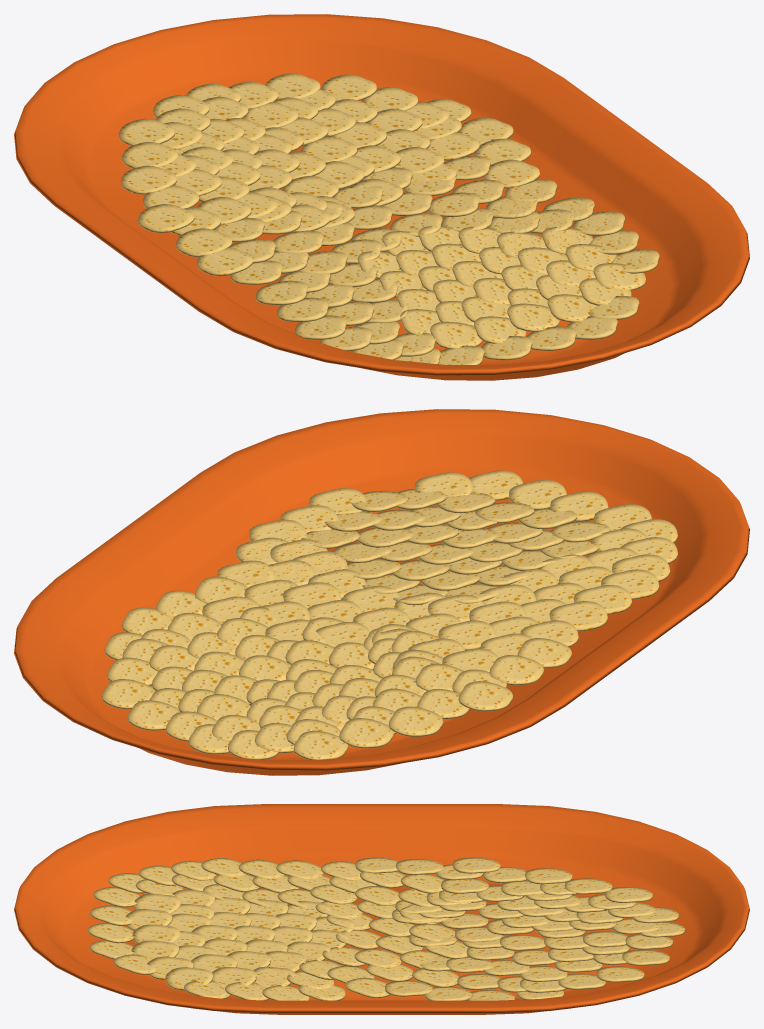
Rendered from cheese tray.fbx.
3 views of the same model, one above another, from view 1: azimuth 30°, elevation 25°; view 2: azimuth 150°, elevation 25°; view 3: azimuth 270°, elevation 25° (orthographic). The views are drawn at different scales.
Visible parts, largest first — view 1: Tomatoes.144, Dishes.029; view 2: Tomatoes.144, Dishes.029; view 3: Tomatoes.144, Dishes.029.
Boxes of the visible parts, box(x1,y1,x2,y2) form: Tomatoes.144: box(118, 73, 659, 364); Dishes.029: box(14, 14, 749, 380); Tomatoes.144: box(102, 470, 677, 759); Dishes.029: box(14, 409, 749, 775); Tomatoes.144: box(87, 857, 684, 1000); Dishes.029: box(14, 804, 749, 1014).
Bounding box in the file's own units: 86.81 × 7.58 × 131.
